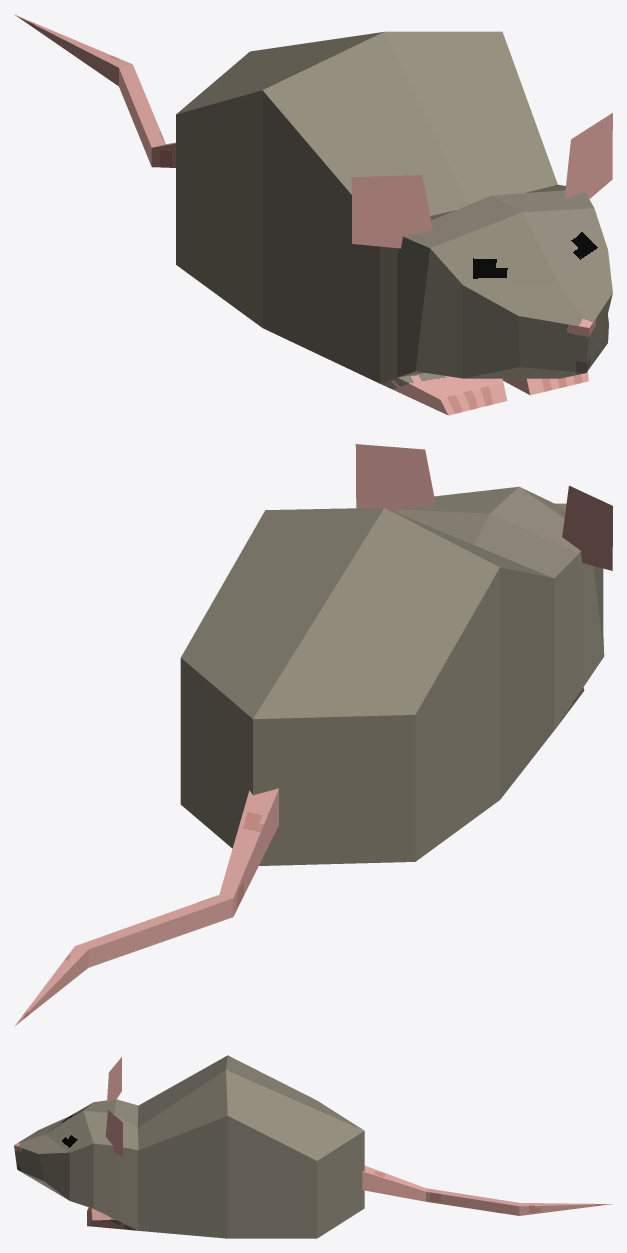
File: Rat.fbx
3 renders of one model, top to bottom at view 1: azimuth 30°, elevation 25°; view 2: azimuth 150°, elevation 25°; view 3: azimuth 270°, elevation 25°, orthographic. The views are drawn at different scales.
Parts seen in each view (by area): view 1: Ear.001; view 2: Ear.001; view 3: Ear.001.
Part boxes in pixels (x1=…): Ear.001: x1=14, y1=14, x2=612, y2=415; Ear.001: x1=14, y1=444, x2=612, y2=1026; Ear.001: x1=14, y1=1055, x2=611, y2=1238.
Size of the model in its own units: 0.4131 by 1.58 by 0.4041.
